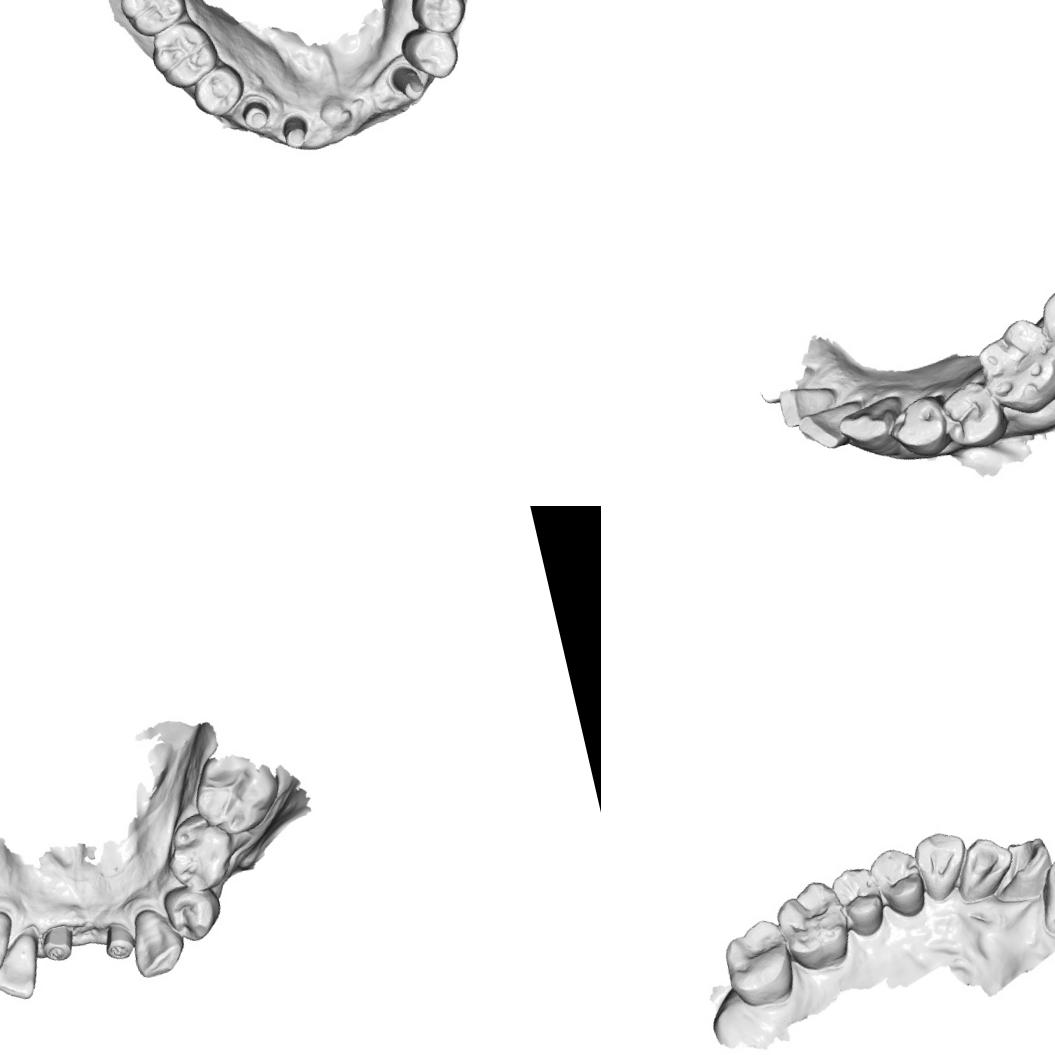abutment: (388, 59, 432, 106), (276, 110, 317, 154), (236, 95, 274, 136)
canine: (122, 900, 192, 982), (910, 826, 977, 906), (397, 19, 464, 86), (834, 395, 906, 456), (0, 908, 23, 984)
implant: (96, 916, 140, 965), (35, 918, 79, 966)
incisor: (981, 832, 1055, 910), (948, 830, 1022, 906), (0, 930, 50, 1006), (772, 379, 838, 432), (794, 402, 859, 455), (1026, 845, 1055, 944)
molar: (185, 744, 287, 842), (970, 310, 1055, 424), (768, 874, 858, 980), (716, 914, 802, 1014), (155, 806, 243, 899), (142, 13, 225, 97), (113, 0, 192, 42)
premolar: (864, 841, 933, 926), (828, 860, 892, 943), (936, 377, 1005, 451), (884, 392, 952, 465), (159, 878, 229, 948), (188, 61, 252, 123), (405, 0, 471, 41)
